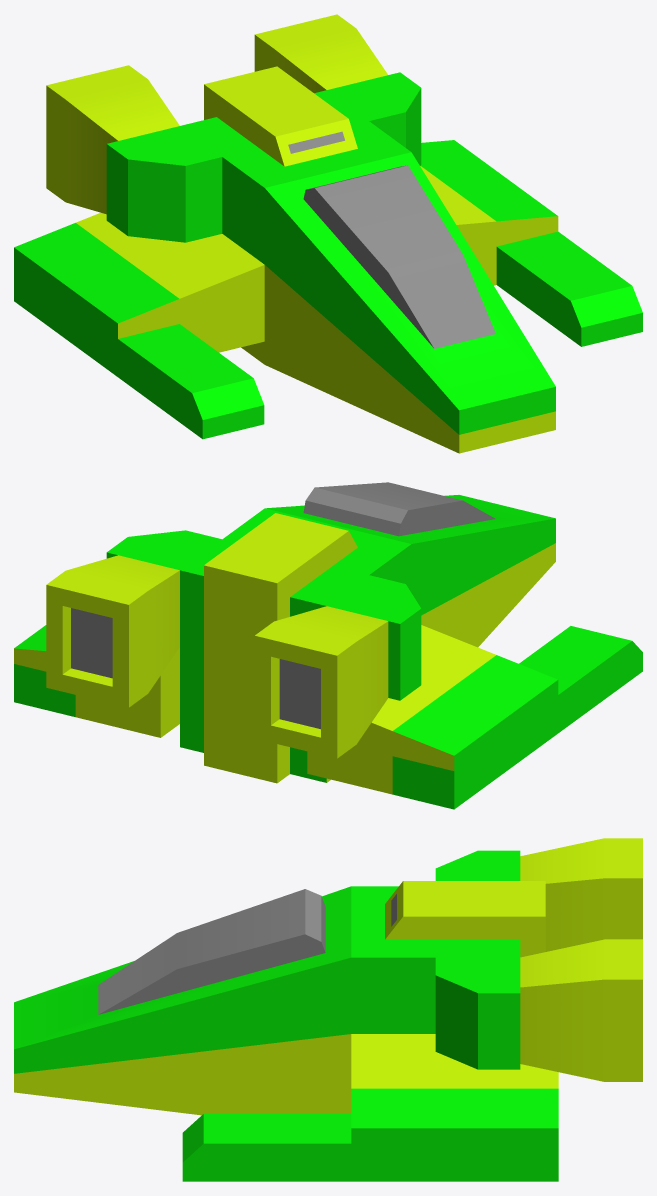
File: enemyfighter.dae
3 views of the same model, one above another, from view 1: azimuth 30°, elevation 25°; view 2: azimuth 150°, elevation 25°; view 3: azimuth 270°, elevation 25° (orthographic).
Parts seen in each view (by area): view 1: spaceCraft3_8angles; view 2: spaceCraft3_8angles; view 3: spaceCraft3_8angles.
Part boxes in pixels (x1,y1,x2,y2): spaceCraft3_8angles: [14, 14, 642, 453]; spaceCraft3_8angles: [14, 482, 642, 809]; spaceCraft3_8angles: [14, 838, 642, 1181].
Bounding box in the file's own units: 11.85 × 14.72 × 5.15.
